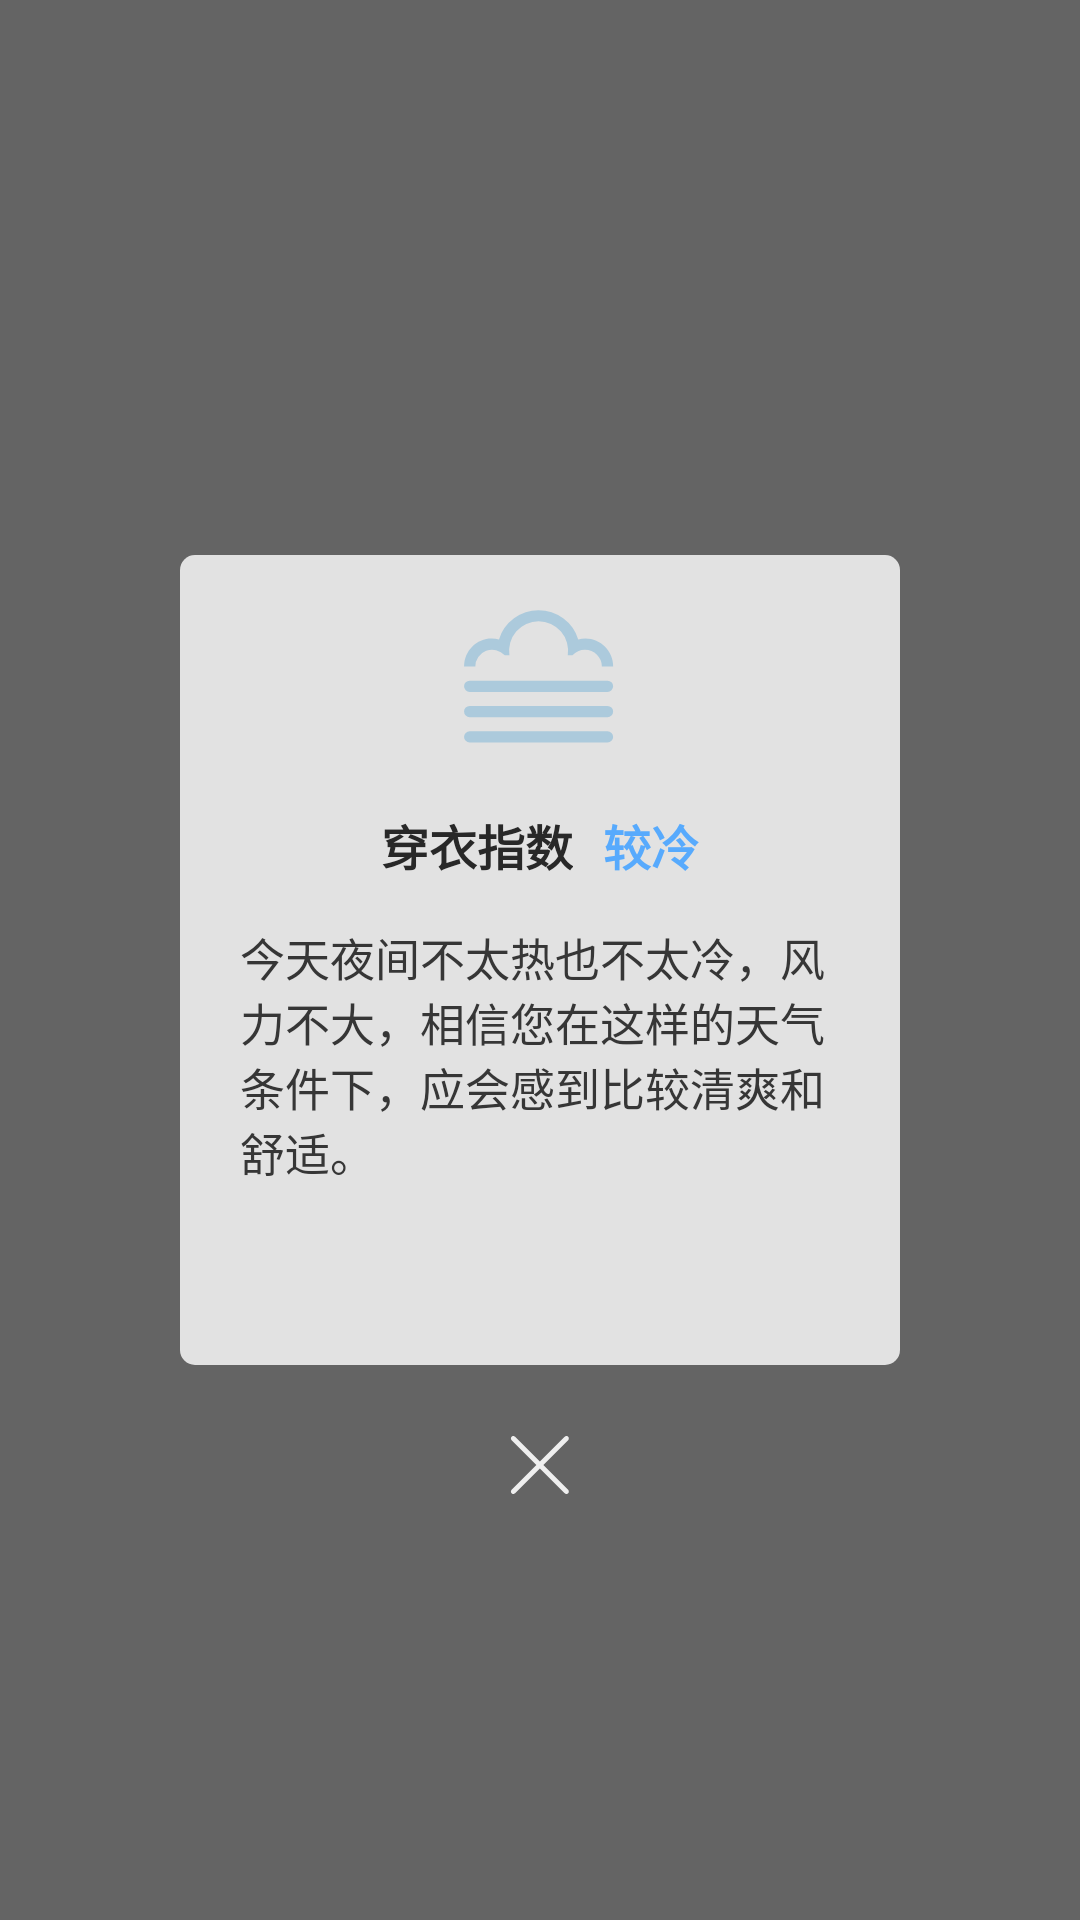

Screen size 1080x1920. Icon name, then its box in pixels as (left=x1, top=y1, right=x2, bottom=y2):
close: (left=511, top=1436, right=569, bottom=1494)
lifestyle air: (left=464, top=610, right=613, bottom=743)
